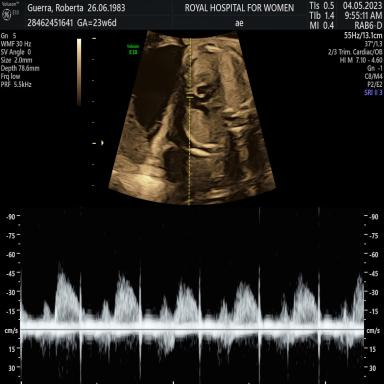Ultrasound-Waves: (27, 210, 361, 384)
